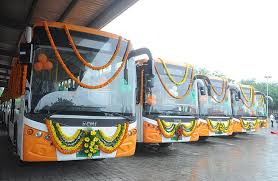bus: (2, 19, 140, 165), (134, 48, 199, 148), (192, 71, 233, 142), (230, 81, 258, 136), (252, 89, 269, 131)
